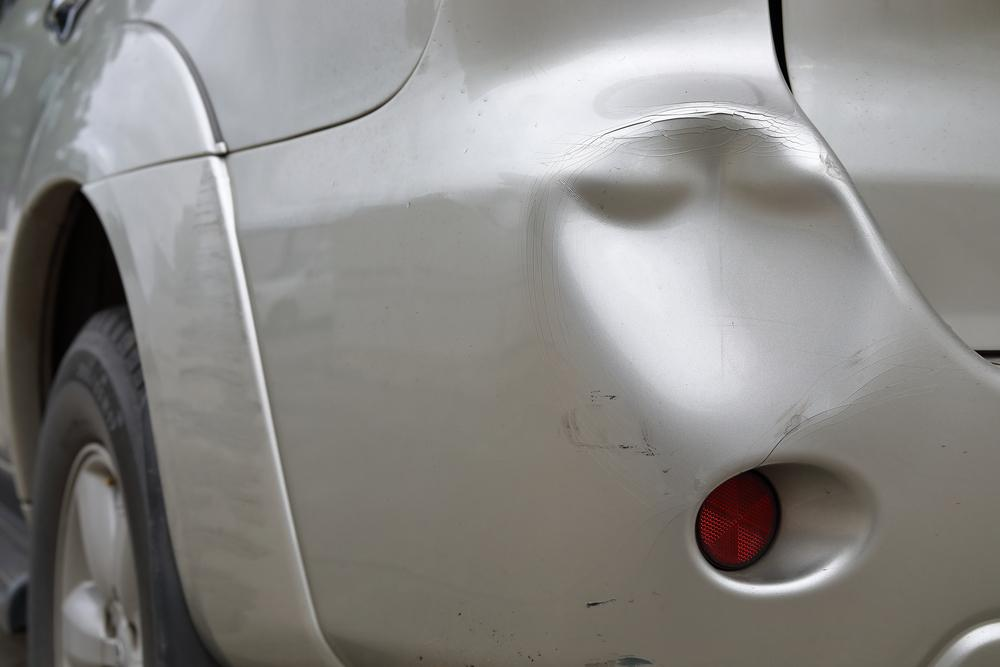dent: (558, 114, 879, 456)
